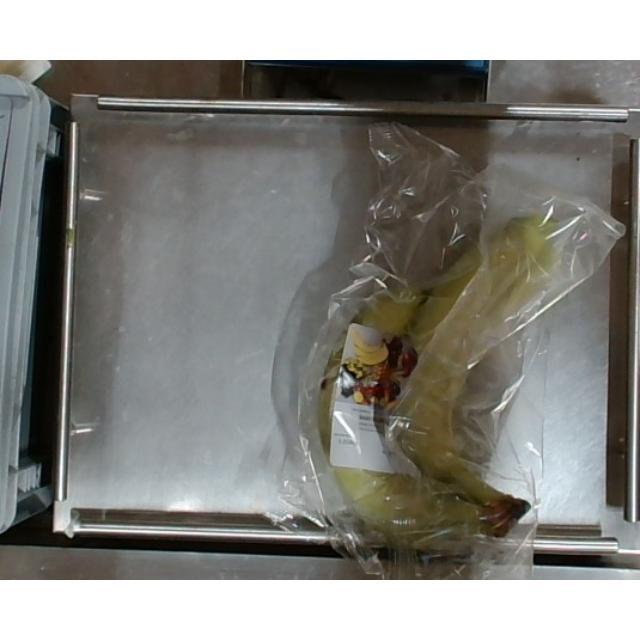cucumber: (410, 242, 560, 536), (316, 283, 478, 547), (406, 218, 534, 530)
